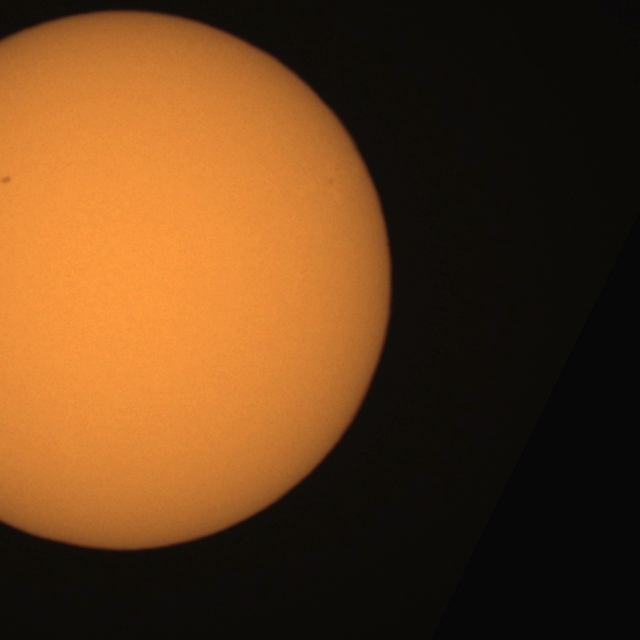sunspot: (0, 174, 12, 187)
